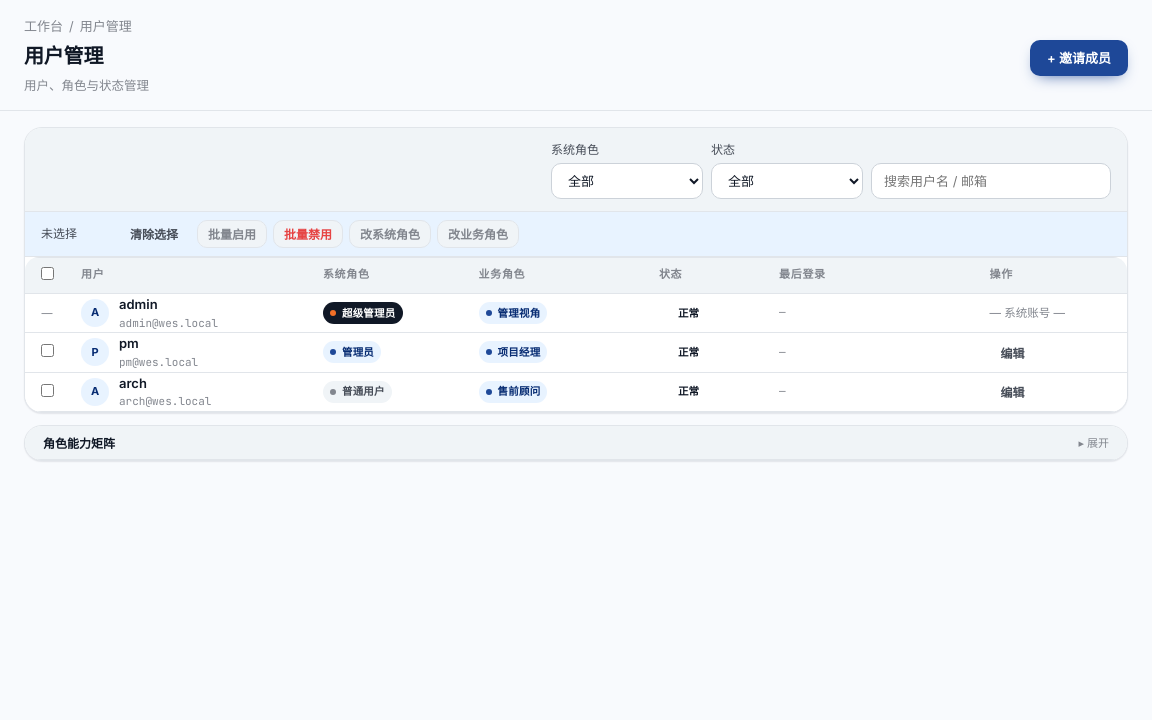
Test: UserManagement › protects dirty editor changes when Escape requests close
Click the button with aria-label "编辑 arch" at (1012,392), box [990, 378, 1036, 406]
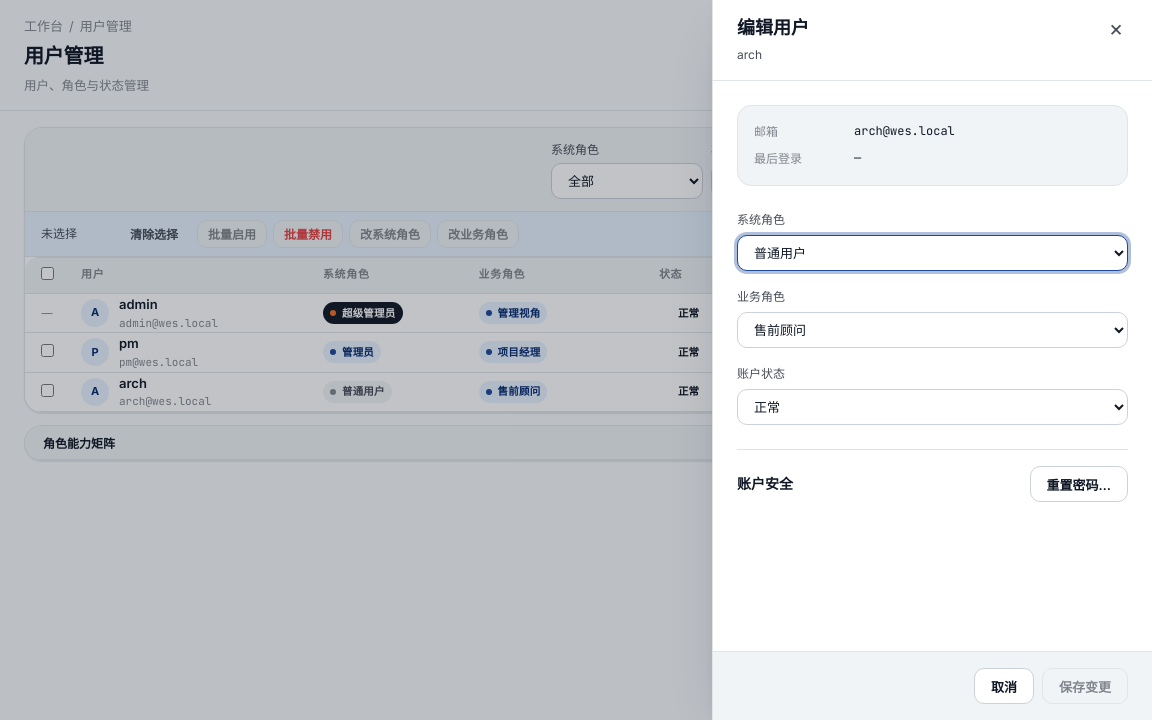
Select "项目经理" in the dropdown labelled "业务角色" at (932,330), box [737, 312, 1128, 348]
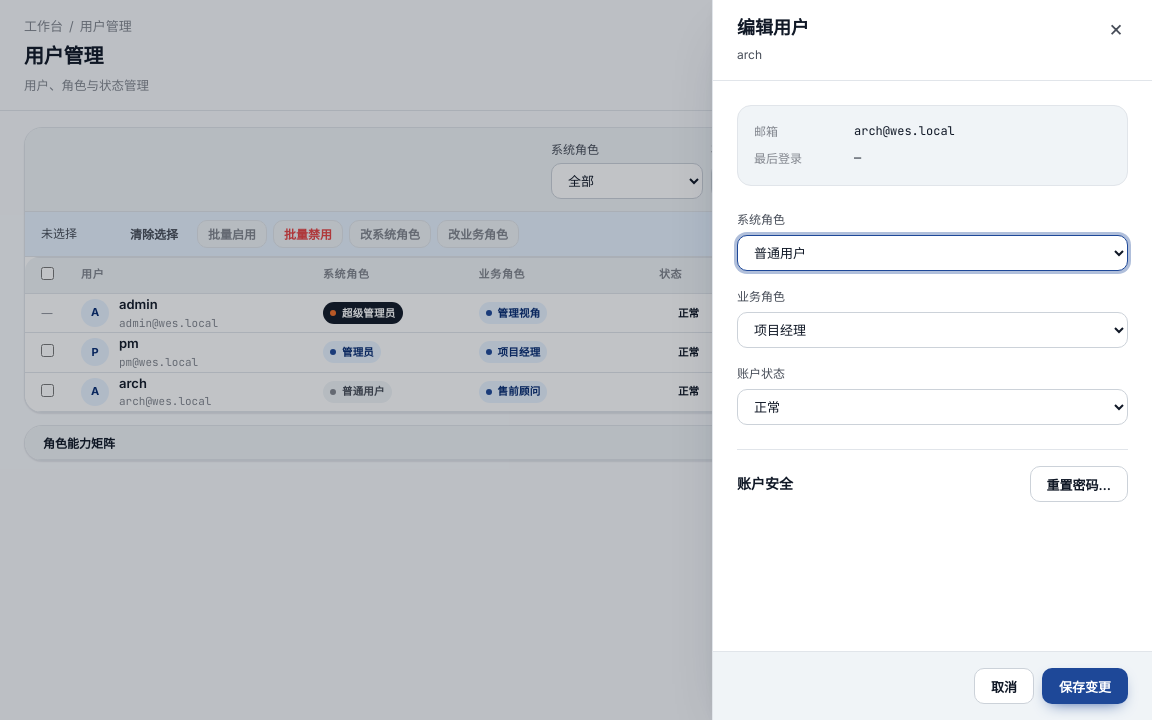
Press Escape in the dialog "编辑用户", box [712, 0, 1151, 719]
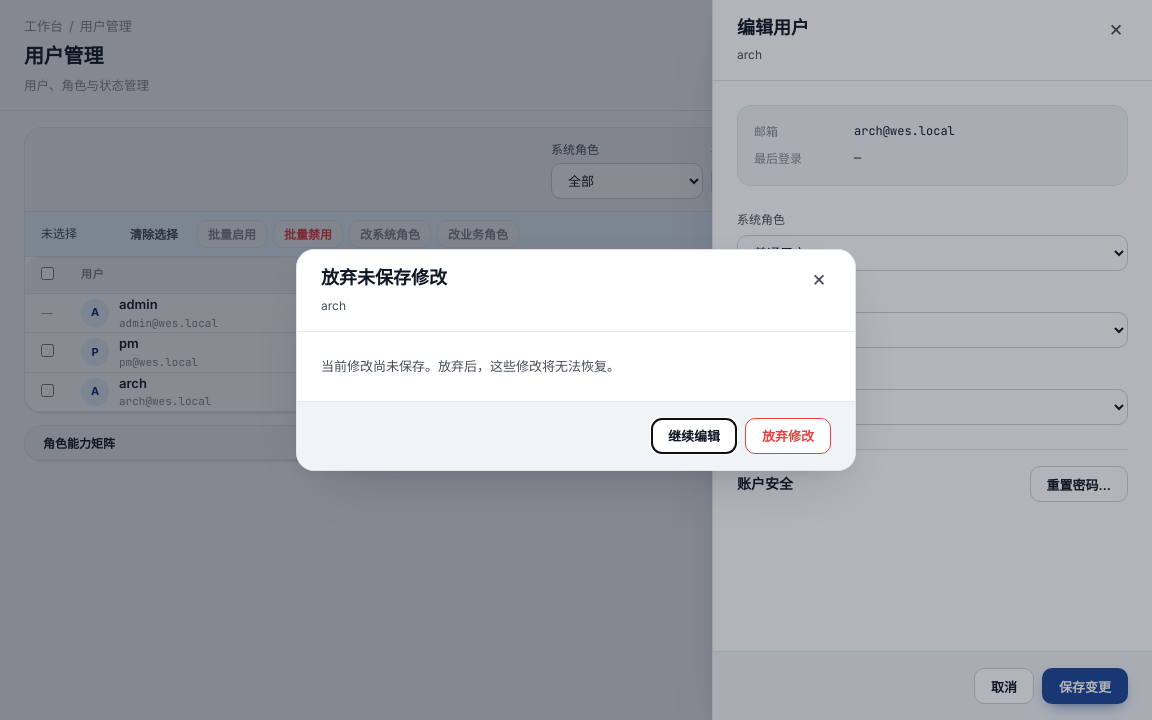
Expected: the dialog "编辑用户" is shown, [712, 0, 1151, 719]
Press Escape in the dialog "放弃未保存修改", box [296, 250, 856, 471]
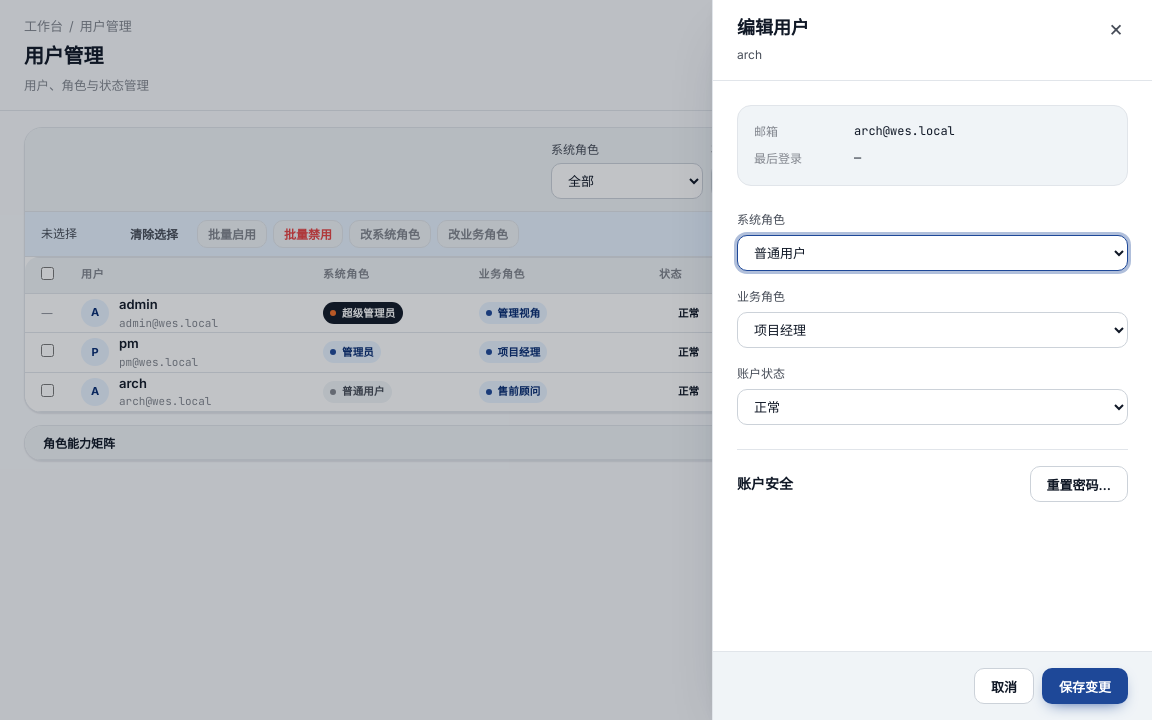
Expected: the dialog "编辑用户" is shown, [712, 0, 1151, 719]
Expected: the heading "放弃未保存修改" is gone
